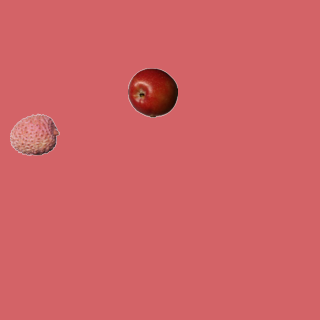Apple Braeburn: (127, 67, 177, 117)
Lychee: (9, 109, 59, 159)
